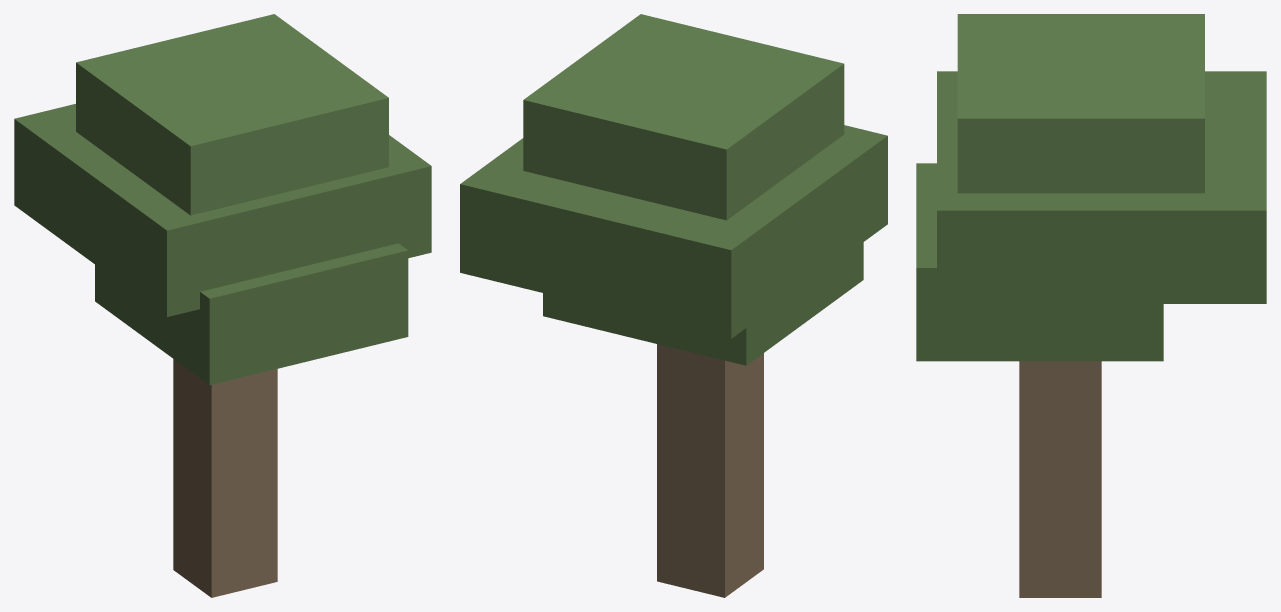
File: encina_06.glb
The picture shows the model from 3 angles, left to right: view 1: azimuth 30°, elevation 25°; view 2: azimuth 150°, elevation 25°; view 3: azimuth 270°, elevation 25°; orthographic projection. The views are drawn at different scales.
Parts seen in each view (by area): view 1: encina_06; view 2: encina_06; view 3: encina_06.
Part boxes in pixels (bbox=[...]): encina_06: bbox=[14, 14, 431, 597]; encina_06: bbox=[460, 14, 887, 597]; encina_06: bbox=[916, 14, 1266, 597].
Size of the model in its own units: 1.6 by 2.8 by 1.7.
